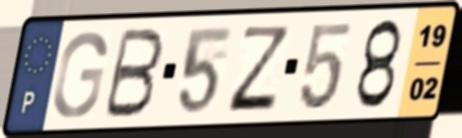5: (177, 23, 237, 117), (296, 19, 355, 112)
8: (354, 16, 405, 111)
B: (99, 26, 167, 121)
G: (50, 28, 110, 121)
Z: (224, 24, 293, 115)
